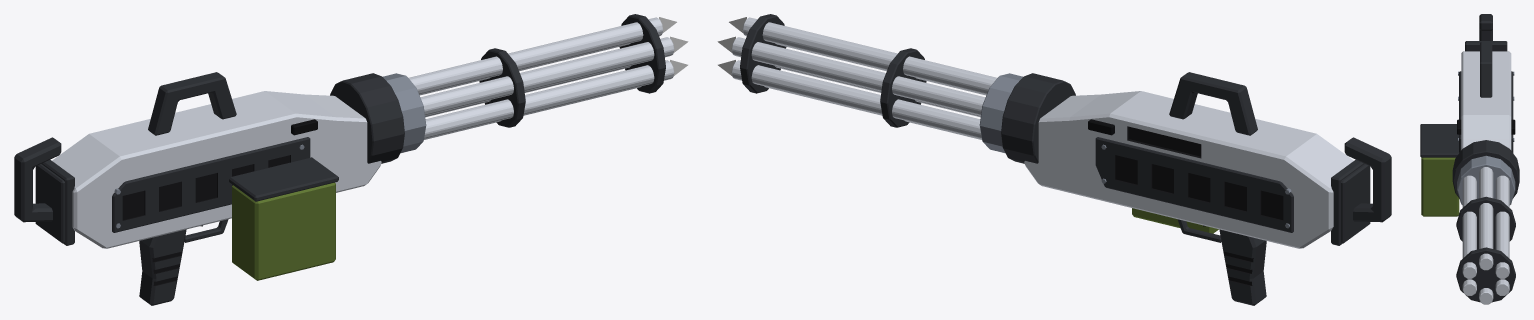
Rendered from mean_minigun42.obj.
3 renders of one model, left to right at view 1: azimuth 30°, elevation 25°; view 2: azimuth 150°, elevation 25°; view 3: azimuth 270°, elevation 25°, orthographic. The views are drawn at different scales.
Parts seen in each view (by area): view 1: body, cluster, mag; view 2: body, cluster, mag; view 3: cluster, body, mag.
Part boxes in pixels (left/top/right/bottom): body: left=14, top=72, right=404, bottom=305; cluster: left=382, top=14, right=674, bottom=153; mag: left=229, top=157, right=338, bottom=280; body: left=1001, top=72, right=1391, bottom=305; cluster: left=731, top=14, right=1023, bottom=153; mag: left=1132, top=208, right=1218, bottom=233; cluster: left=1456, top=155, right=1515, bottom=304; body: left=1452, top=14, right=1519, bottom=205; mag: left=1420, top=124, right=1459, bottom=216.
Bounding box in the file's own units: 0.8131 × 0.247 × 0.1433.
